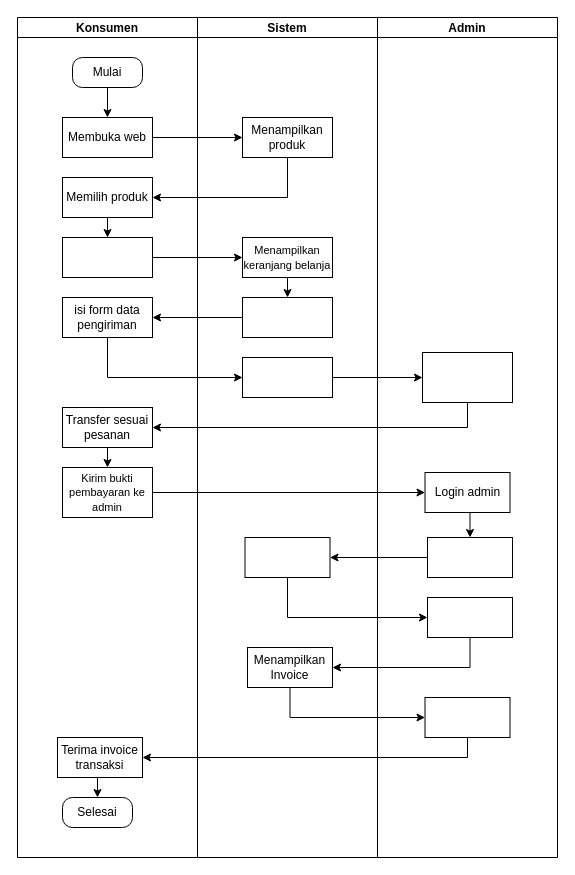
Some shapes in this 575 by 875 pixel diagram are drawn without their labels. Here are the shapes that lost their labels. From the top down, the centre of each, then its label:
At pixel 107 257: "Masukkan keranjang".
At pixel 287 317: "Menampilkan form checkout".
At pixel 287 377: "Diarahkan ke whatsapp".
At pixel 467 377: "Kirim rek transfer ke konsumen via whatsapp".
At pixel 287 557: "Menampilkan data pesanan".
At pixel 469 557: "Validasi Pesanan".
At pixel 469 617: "Validasi Transaksi".
At pixel 467 717: "Kirim Invoice ke konsumen".
